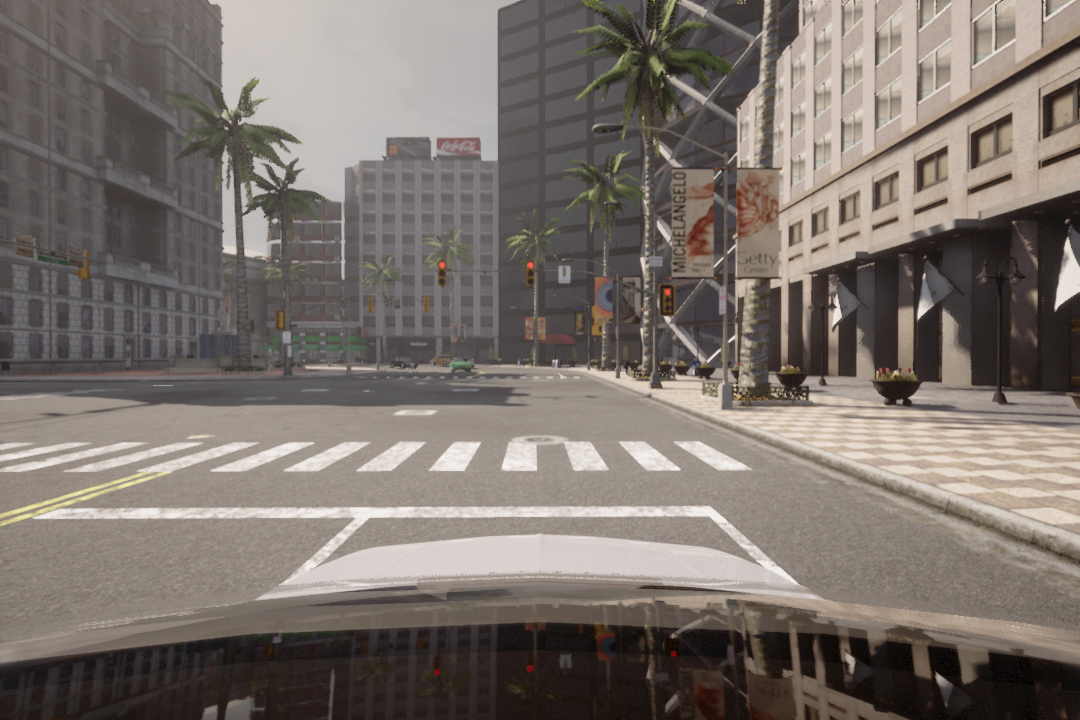TrafficLight: (435, 259, 451, 290), (661, 285, 674, 317), (525, 261, 535, 287)
walkside: (4, 441, 762, 479)
